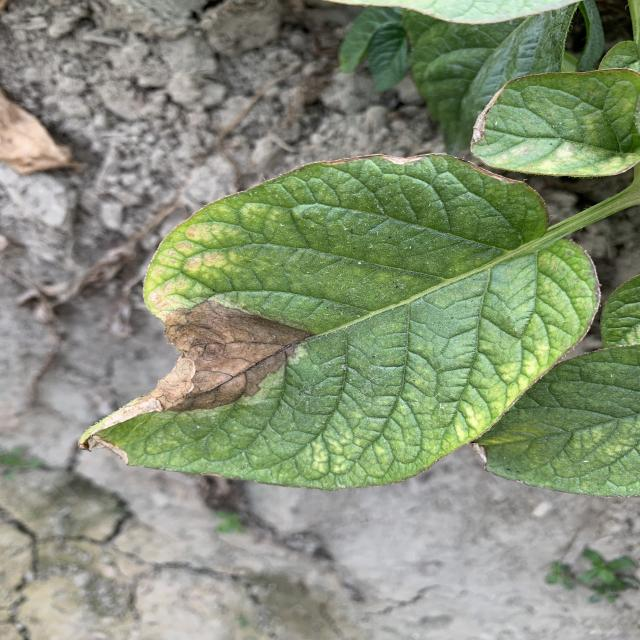lateblight: (80, 301, 312, 449)
